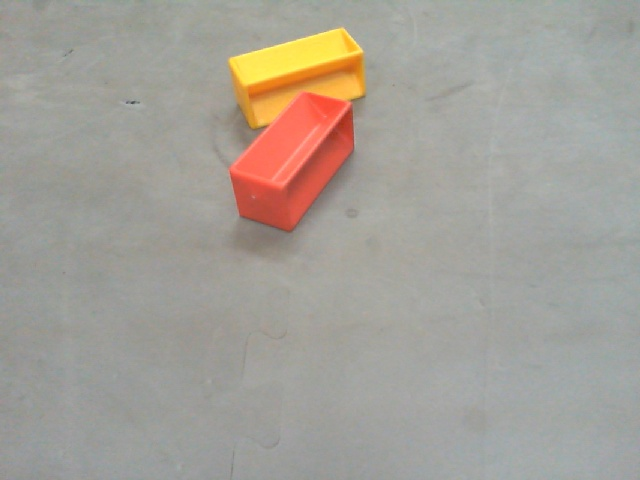RedSample: (227, 88, 356, 235)
YellowSample: (225, 24, 367, 129)
